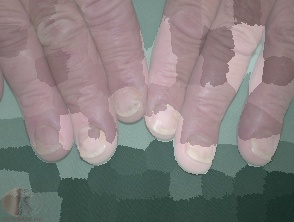Nail_psoriasis: (110, 87, 147, 122), (32, 129, 63, 158), (183, 143, 216, 168), (160, 98, 187, 128), (78, 145, 103, 163)
